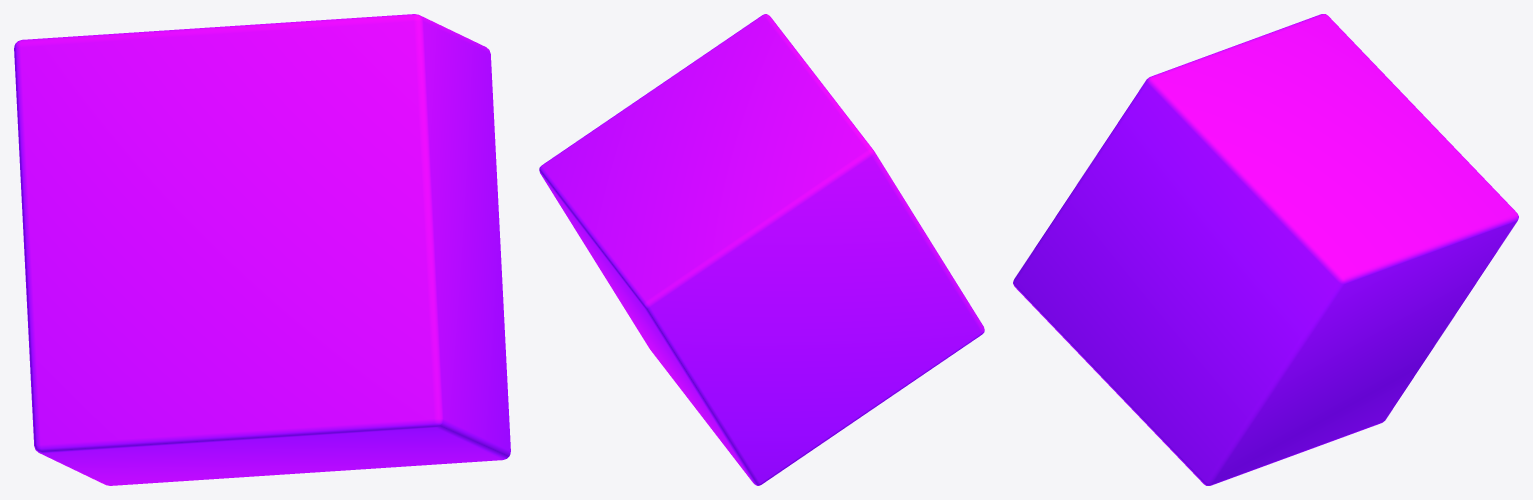
The model's file is asset.glb.
The picture shows the model from 3 angles, left to right: view 1: azimuth 30°, elevation 25°; view 2: azimuth 150°, elevation 25°; view 3: azimuth 270°, elevation 25°; orthographic projection. The views are drawn at different scales.
Parts seen in each view (by area): view 1: Cube; view 2: Cube; view 3: Cube.
Part boxes in pixels (bbox=[...]): Cube: bbox=[14, 14, 510, 485]; Cube: bbox=[539, 14, 984, 485]; Cube: bbox=[1013, 14, 1518, 485].
Bounding box in the file's own units: 15.9 × 14.98 × 17.29.
